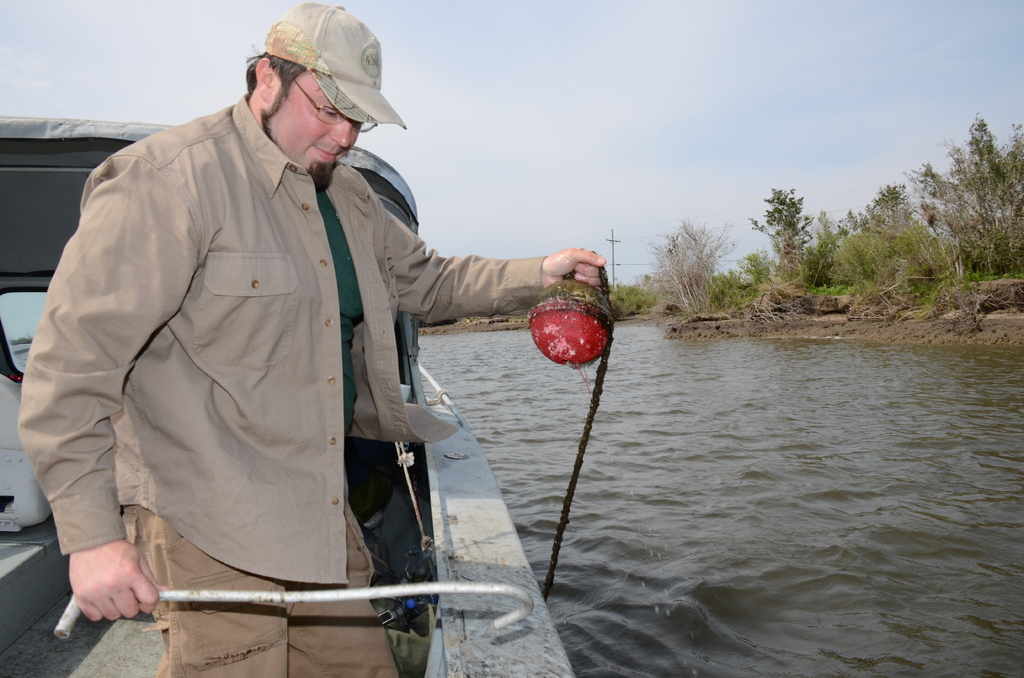Person: (18, 1, 607, 678)
